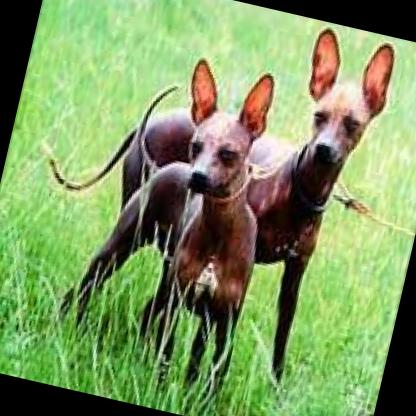Mexican_hairless: (0, 0, 401, 388), (73, 49, 292, 383)
